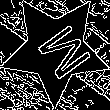M_SW: (23, 16, 88, 83)
